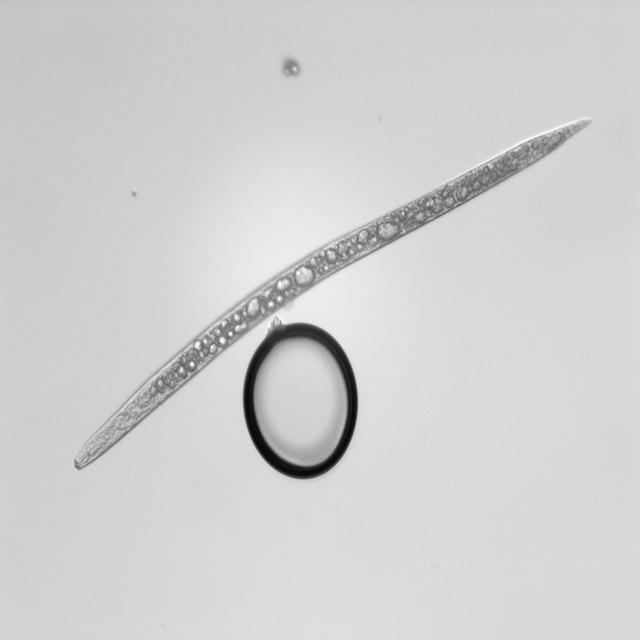Radopholus: (66, 115, 604, 472)
